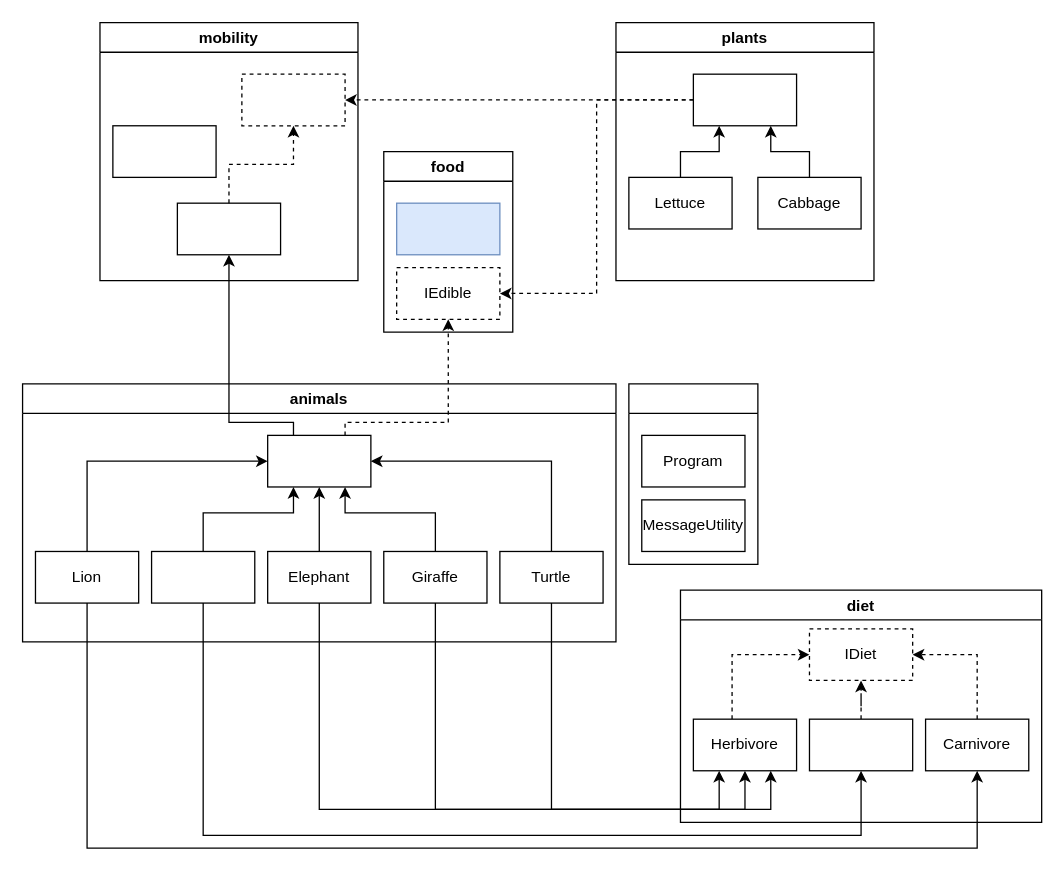
This 1064x881 diagram has some shape labels left out. Here are the shapes that lost their labels. From the top down, the box of each, then its label:
(241, 73, 345, 126): ILocatable
(692, 73, 797, 126): Plant
(112, 124, 216, 177): Point
(176, 202, 281, 255): Mobile
(395, 202, 500, 255): EFoodType
(266, 434, 371, 487): Animal
(628, 382, 758, 564): utilities
(150, 550, 255, 603): Bear
(808, 718, 913, 771): Omnivore
